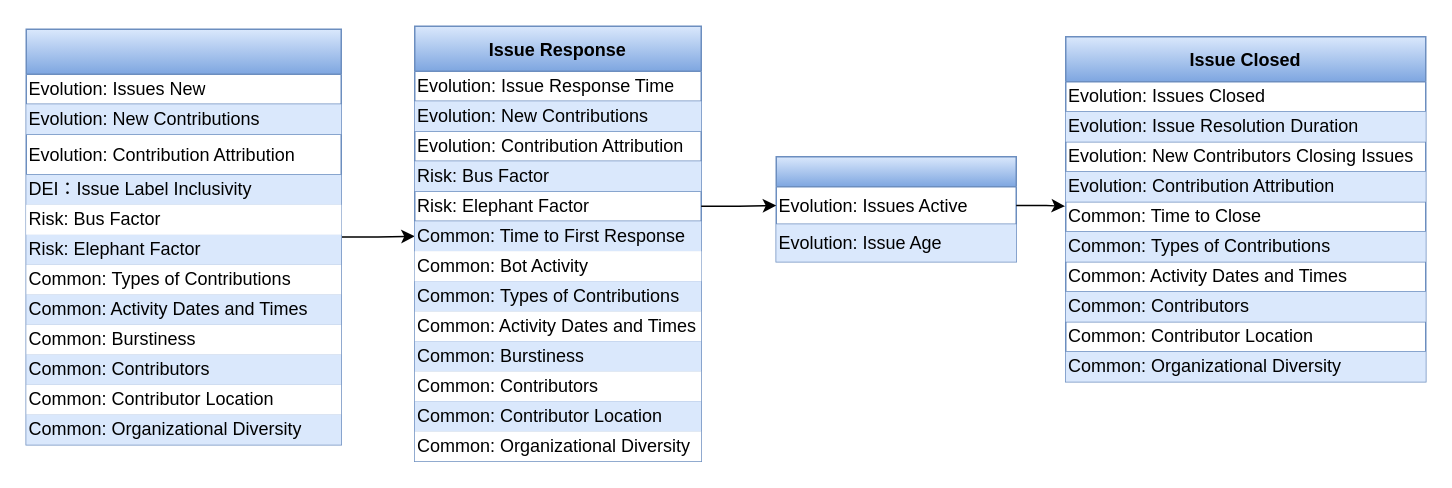
Some shapes in this 1452 by 488 pixel diagram are drawn without their labels. The box of each missing label's shape, as (x1, y1, x2, y2) in pixels:
Issue New: (25, 28, 341, 445)
Issue Opened State: (775, 155, 1016, 262)
